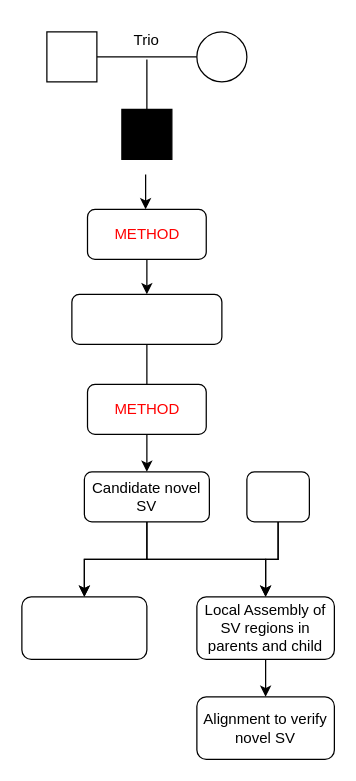
This 356x781 diagram has some shape labels left out. The box of each missing label's shape, as (x1, y1, x2, y2) in pixels:
BAM: (246, 471, 309, 522)
Merged Structural Variant Calls: (71, 293, 222, 344)
Visualization of SV regions in parents and child: (21, 596, 147, 659)
